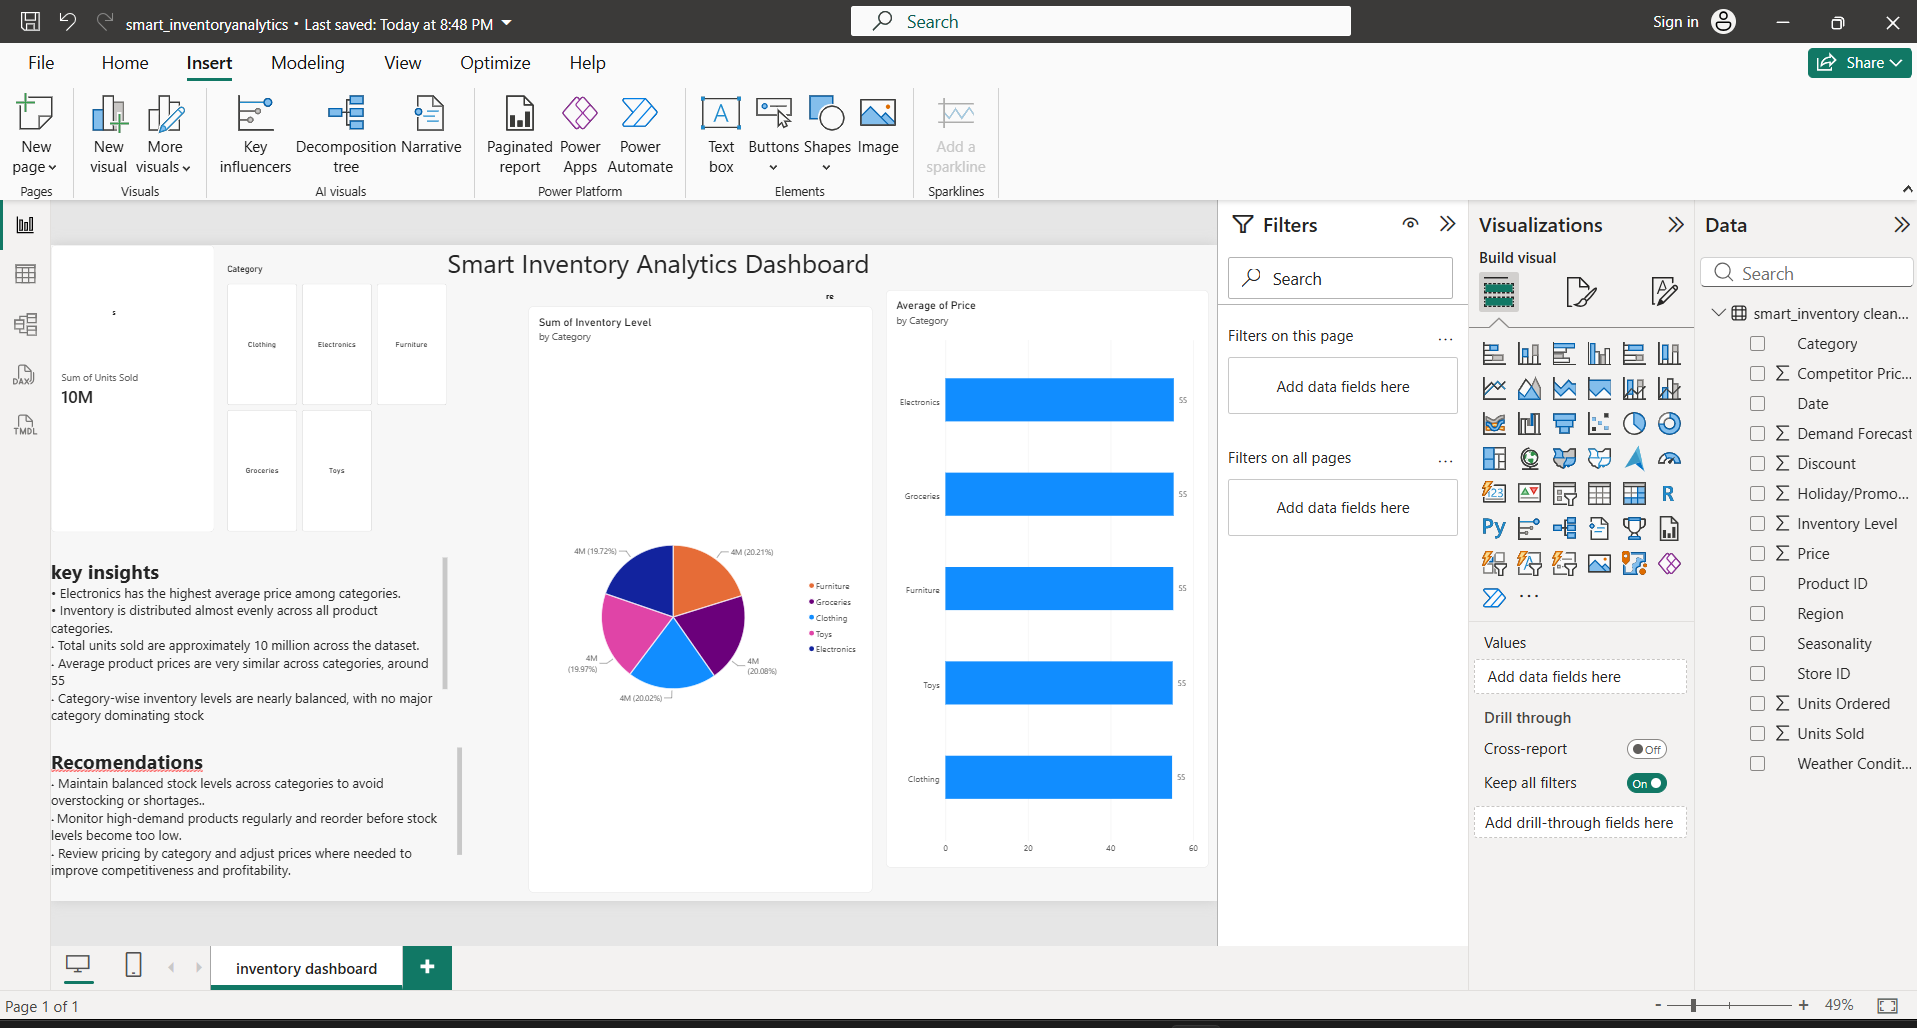

This screenshot's page, from the dashboard's own definition file:
{"tool":"powerbi","page":{"name":"inventory dashboard","canvas":[1920,1080],"ordinal":0},"visuals":[{"type":"clusteredBarChart","fields":{"Category":["smart_inventory cleaned_inventory.Category"],"Y":["Avg(smart_inventory cleaned_inventory.Price)"]},"box":[1375,74.1,531,950.9],"z":1},{"type":"pieChart","fields":{"Category":["smart_inventory cleaned_inventory.Category"],"Y":["Sum(smart_inventory cleaned_inventory.Inventory Level)"]},"box":[786.3,100.9,566,965.4],"z":2},{"type":"cardVisual","fields":{"Data":["Sum(smart_inventory cleaned_inventory.Units Sold)"]},"box":[0,0,269.6,473.4],"z":3},{"type":"textbox","box":[100,100,300,300],"z":4},{"type":"textbox","box":[100,100,300,300],"z":5},{"type":"textbox","box":[100,100,300,300],"z":6},{"type":"textbox","box":[652.5,0,868.6,74.1],"z":7},{"type":"advancedSlicerVisual","fields":{"Values":["smart_inventory cleaned_inventory.Category"]},"box":[290.2,30.9,362.3,442.5],"z":8},{"type":"textbox","box":[959,101,214,301],"z":9},{"type":"textbox","box":[0,514.6,652.5,288.2],"z":10},{"type":"textbox","box":[1276.2,74.1,644.3,327.3],"z":11},{"type":"textbox","box":[1099,432,177,543],"z":12},{"type":"textbox","box":[0,827.4,677.2,218.2],"z":13},{"type":"textbox","box":[100,100,300,300],"z":14}]}

Visuals, with their boxes on the page's 1920x1080 design canvas (x1, y1, x2, y2). These are canvas units, not pixel positions in the 1917x1028 screenshot, which may show the page scaled, cropped or inside an application window:
clusteredBarChart - smart_inventory cleaned_inventory.Category x Avg(smart_inventory cleaned_inventory.Price): detection(1375, 74, 1906, 1025)
pieChart - smart_inventory cleaned_inventory.Category x Sum(smart_inventory cleaned_inventory.Inventory Level): detection(786, 101, 1352, 1066)
cardVisual - Sum(smart_inventory cleaned_inventory.Units Sold): detection(0, 0, 270, 473)
textbox: detection(100, 100, 400, 400)
textbox: detection(100, 100, 400, 400)
textbox: detection(100, 100, 400, 400)
textbox: detection(652, 0, 1521, 74)
advancedSlicerVisual - smart_inventory cleaned_inventory.Category: detection(290, 31, 652, 473)
textbox: detection(959, 101, 1173, 402)
textbox: detection(0, 515, 652, 803)
textbox: detection(1276, 74, 1920, 401)
textbox: detection(1099, 432, 1276, 975)
textbox: detection(0, 827, 677, 1046)
textbox: detection(100, 100, 400, 400)
